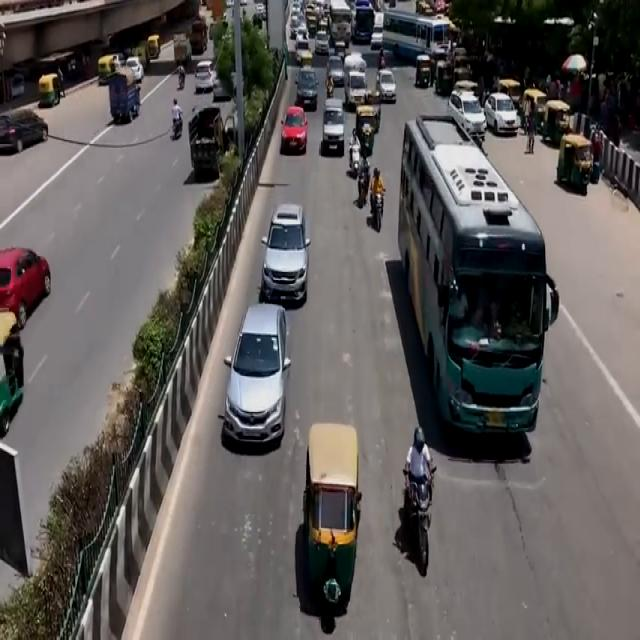BUS: (391, 117, 545, 444), (384, 6, 454, 61)
MOTORCYCLE: (407, 469, 437, 577), (374, 189, 386, 231)
